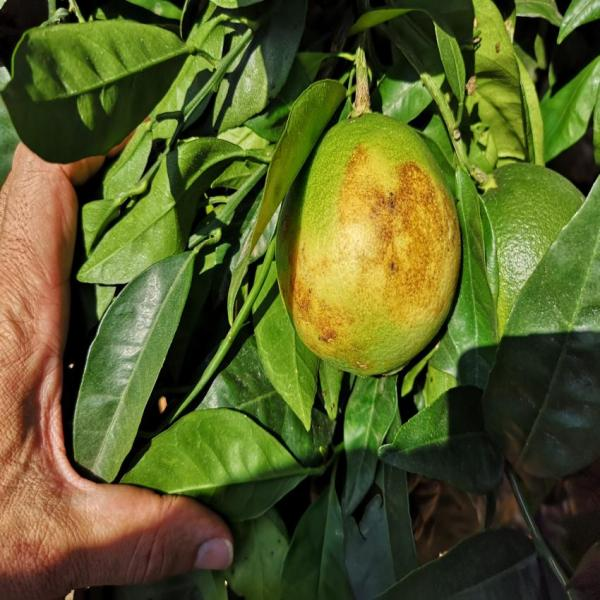Trips: (270, 104, 470, 397)
